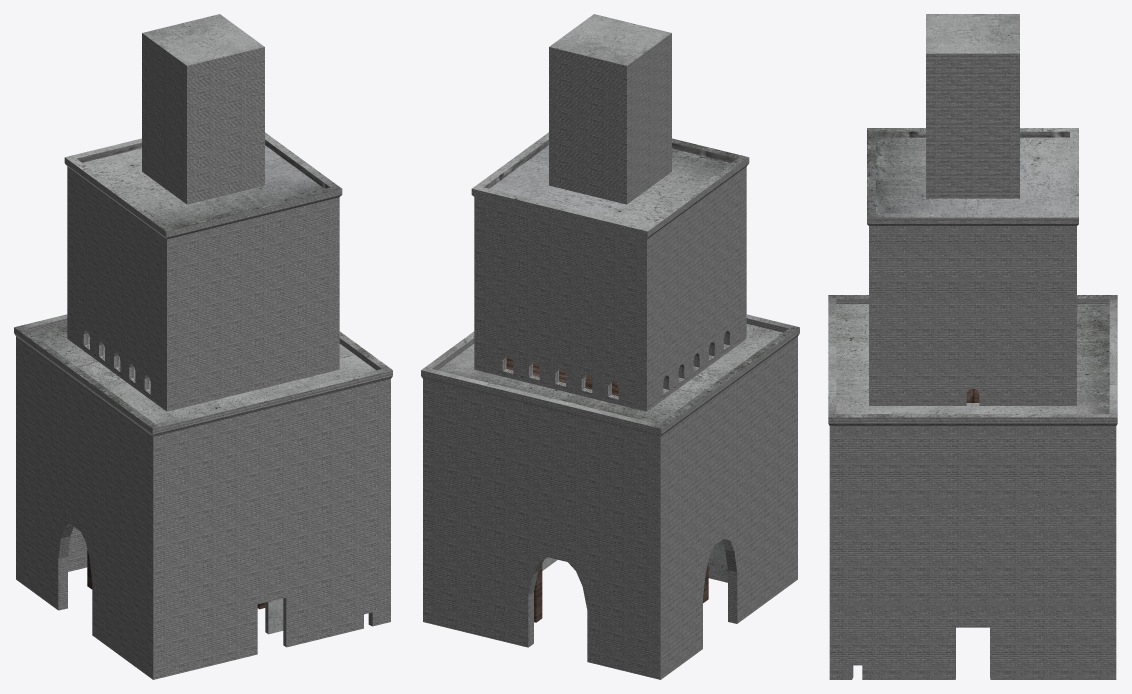
Rendered from Trost HeadQuater.fbx.
3 renders of one model, left to right at view 1: azimuth 30°, elevation 25°; view 2: azimuth 150°, elevation 25°; view 3: azimuth 270°, elevation 25°, orthographic. The views are drawn at different scales.
Parts seen in each view (by area): view 1: Trost HeadQuater; view 2: Trost HeadQuater; view 3: Trost HeadQuater.
Boxes of the visible parts, bbox=[...] form: Trost HeadQuater: bbox=[14, 14, 392, 679]; Trost HeadQuater: bbox=[421, 14, 799, 679]; Trost HeadQuater: bbox=[828, 14, 1117, 679].
Bounding box in the file's own units: 2282 × 5090 × 2282.
